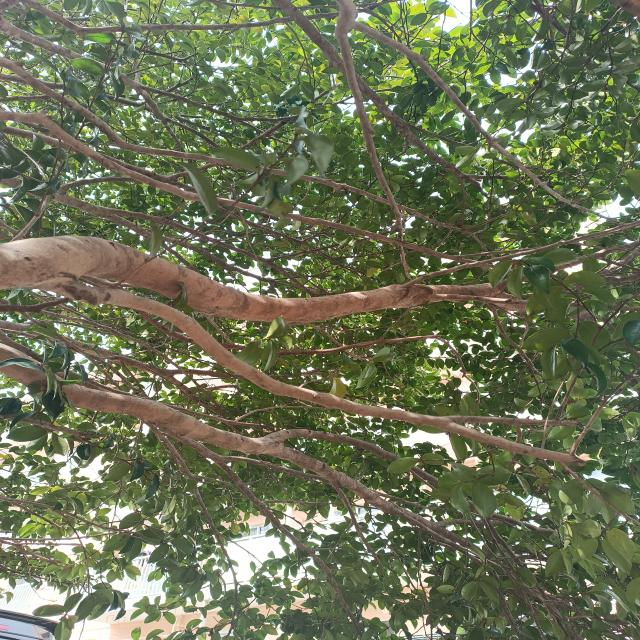Branch: (0, 235, 526, 322), (0, 343, 287, 455)
Twig: (49, 283, 586, 463), (152, 424, 458, 633), (264, 444, 471, 545), (144, 422, 246, 625), (256, 428, 443, 488)
